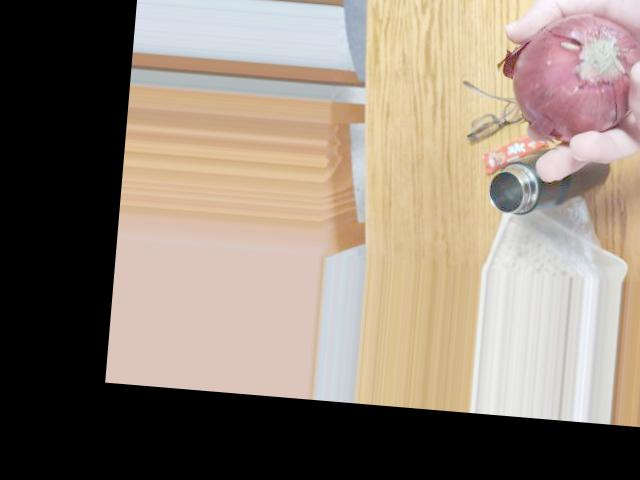onion: (520, 7, 640, 145)
